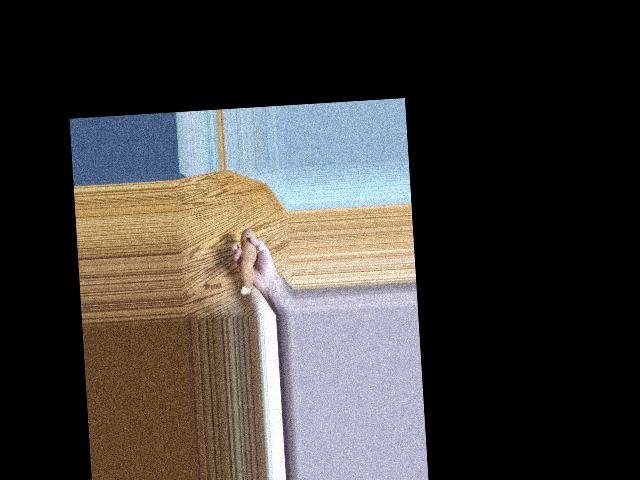sweet_potato: (235, 232, 260, 289)
